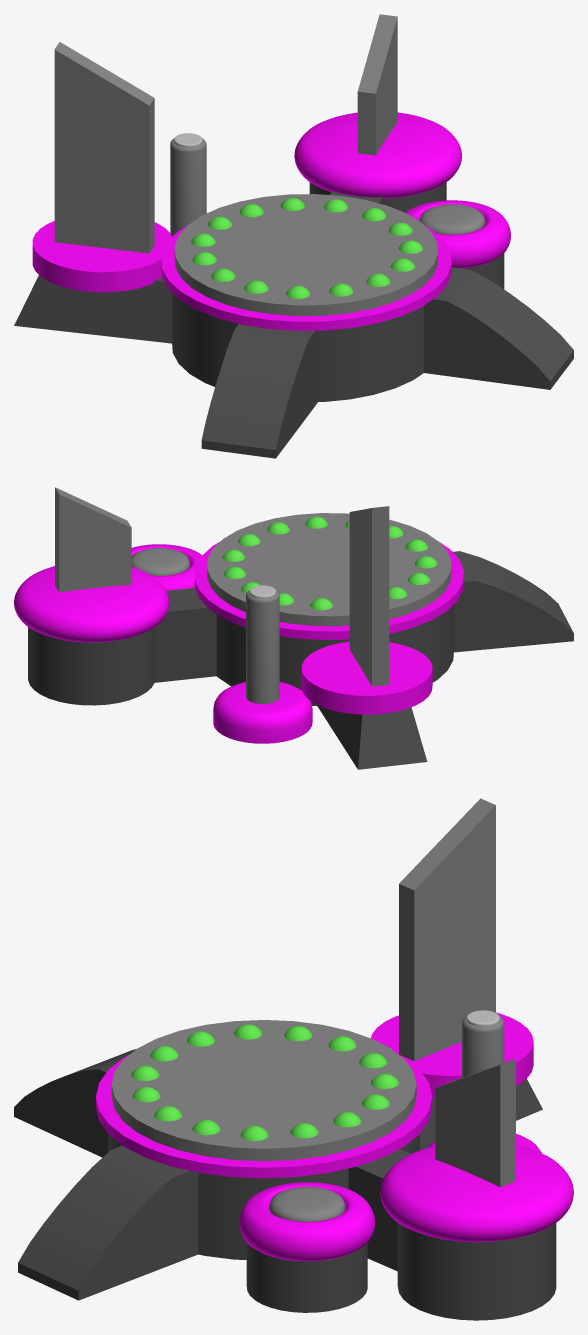
The model's file is Armory.fbx.
3 views of the same model, one above another, from view 1: azimuth 30°, elevation 25°; view 2: azimuth 150°, elevation 25°; view 3: azimuth 270°, elevation 25° (orthographic). The views are drawn at different scales.
Parts seen in each view (by area): view 1: Cylinder.037, Cylinder.040, Cube.038, Cylinder.042, Cylinder.047, Cube.037, Sphere.024, Cylinder.044, Cylinder.048, Cylinder.045; view 2: Cylinder.040, Cylinder.037, Cylinder.042, Cylinder.048, Cylinder.047, Cube.038, Cube.037, Sphere.024, Cylinder.045, Cylinder.044; view 3: Cylinder.040, Cylinder.037, Cube.038, Cylinder.042, Cube.037, Cylinder.044, Sphere.024, Cylinder.047, Cylinder.048, Cylinder.045.
Part boxes in pixels (x1,y1,x2,y2): Cylinder.037: (161,194,451,401); Cylinder.040: (14,182,573,458); Cube.038: (54,42,154,253); Cylinder.042: (294,112,461,198); Cylinder.047: (32,221,171,292); Cube.037: (357,14,397,155); Sphere.024: (191,197,423,298); Cylinder.044: (405,200,510,268); Cylinder.048: (170,138,206,236); Cylinder.045: (419,204,485,234); Cylinder.040: (28,551,573,769); Cylinder.037: (194,513,463,705); Cylinder.042: (14,566,169,642); Cylinder.048: (213,590,312,743); Cylinder.047: (301,641,432,714); Cube.038: (349,506,389,686); Cube.037: (55,487,131,592); Sphere.024: (222,516,437,610); Cylinder.045: (131,547,190,575); Cylinder.044: (131,544,202,590); Cylinder.040: (14,1049,556,1320); Cylinder.037: (96,1020,432,1259); Cube.038: (399,798,495,1061); Cylinder.042: (380,1145,573,1242); Cube.037: (435,1058,515,1187); Cylinder.044: (239,1182,375,1261); Sphere.024: (131,1024,398,1141); Cylinder.047: (371,1012,533,1098); Cylinder.048: (428,1016,541,1153); Cylinder.045: (269,1186,345,1221).
Bounding box in the file's own units: 295 × 172 × 284.
